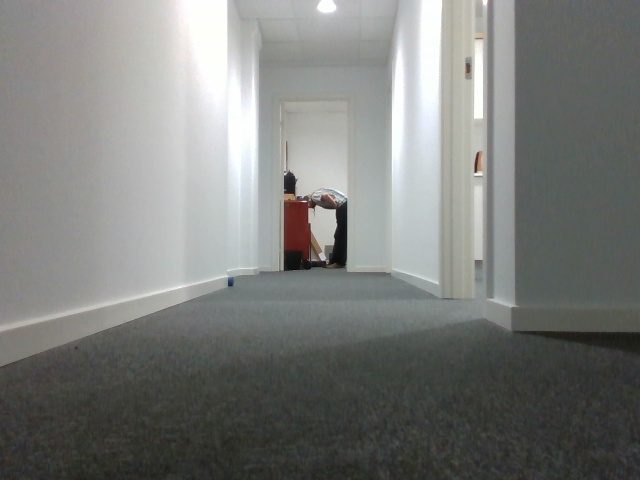alfa: (228, 276, 236, 287)
